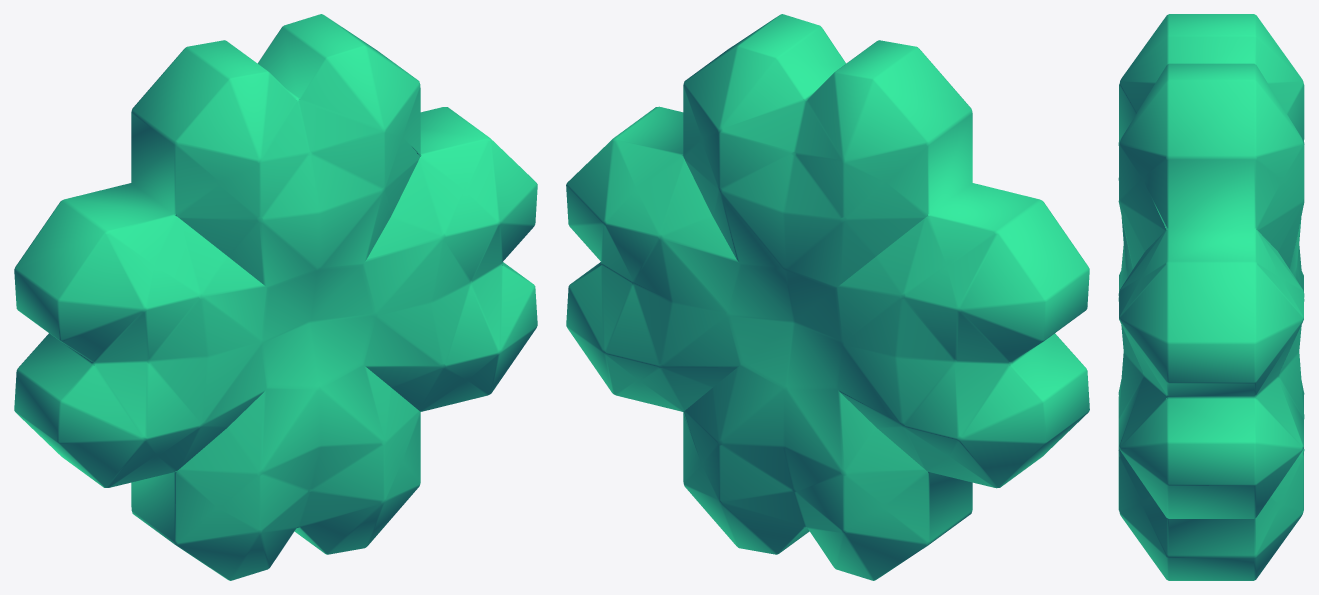
File: clover-small.glb
3 renders of one model, left to right at view 1: azimuth 30°, elevation 25°; view 2: azimuth 150°, elevation 25°; view 3: azimuth 270°, elevation 25°, orthographic.
Visible parts, largest first — view 1: Boole.001; view 2: Boole.001; view 3: Boole.001.
Boxes of the visible parts, left/top/right/bottom form: Boole.001: left=14, top=14, right=537, bottom=580; Boole.001: left=566, top=14, right=1089, bottom=580; Boole.001: left=1118, top=14, right=1304, bottom=580.
Bounding box in the file's own units: 13.95 × 13.95 × 4.69.
